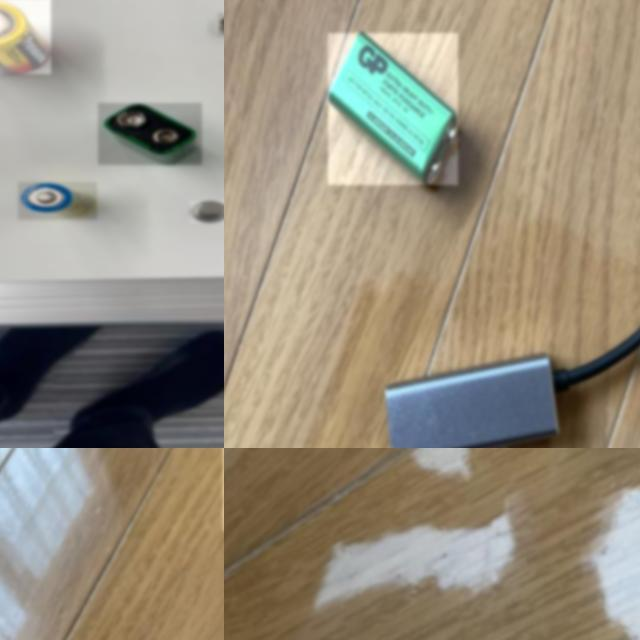9V: (328, 33, 458, 185), (99, 103, 203, 164)
